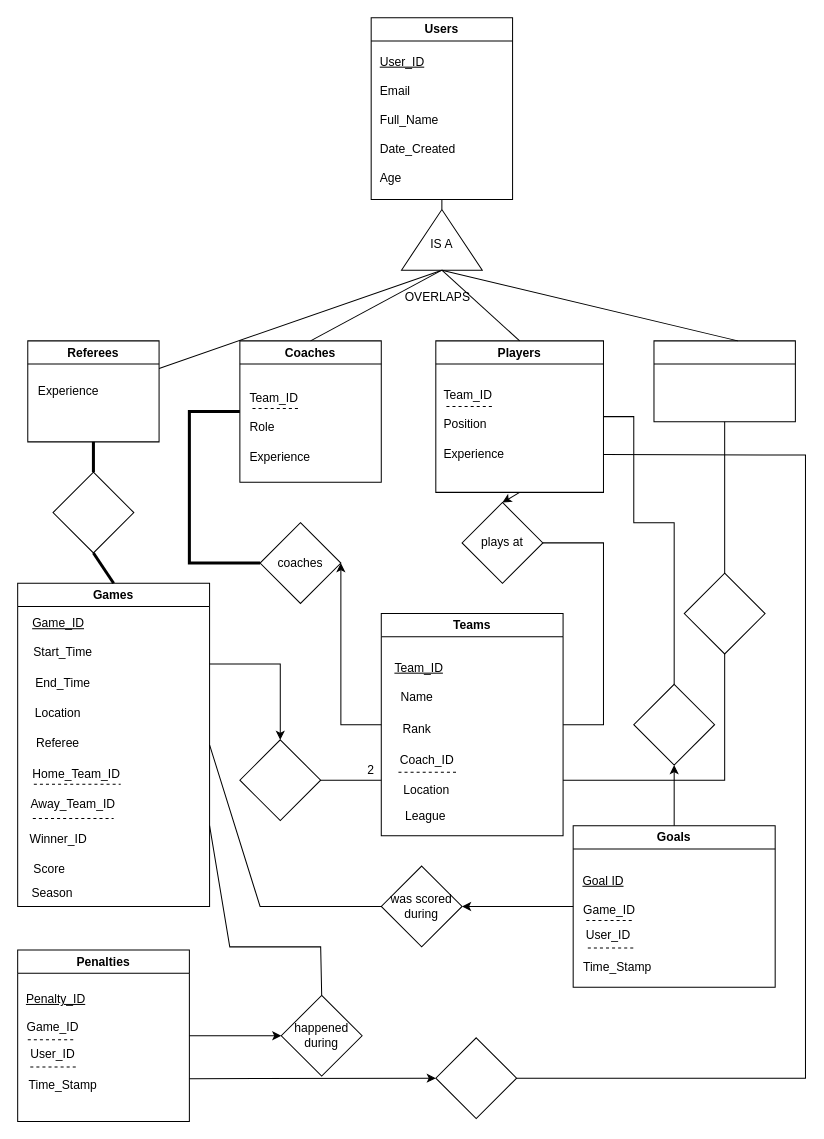
This 824x1139 diagram has some shape labels left out. The shapes that lost their labels are listed below. From the top down, each one's centre as x and y in pixels, then its label:
point 724,381: Fans
point 93,512: referee of
point 724,613: fan of
point 674,724: scored
point 280,780: plays
point 476,1078: happened by
